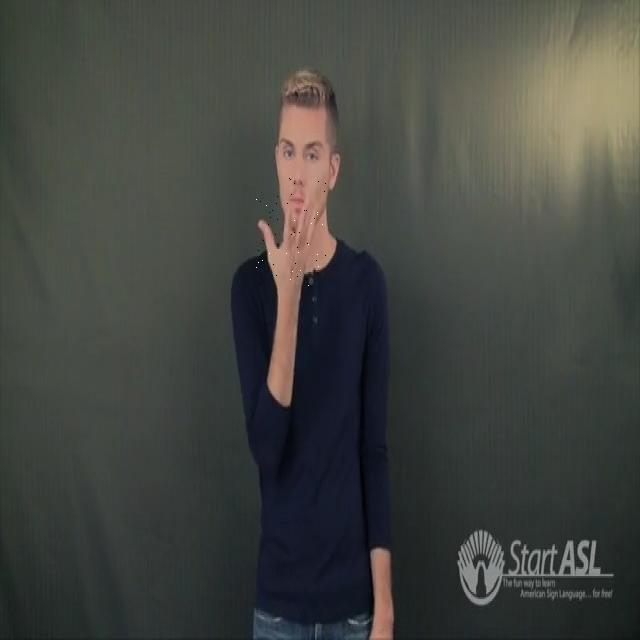warm: (256, 178, 326, 287)
